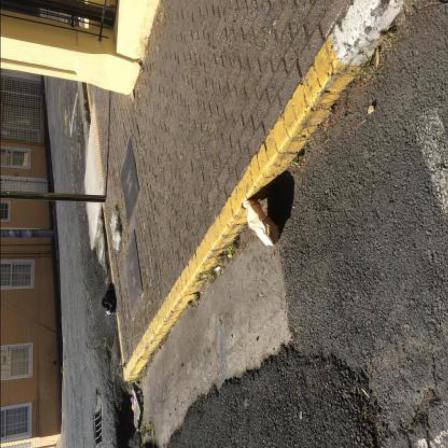Carton: (132, 396, 138, 414), (138, 390, 144, 403)
Other litter: (243, 201, 281, 247)
Plastic bag - wrapper: (105, 283, 118, 318)
